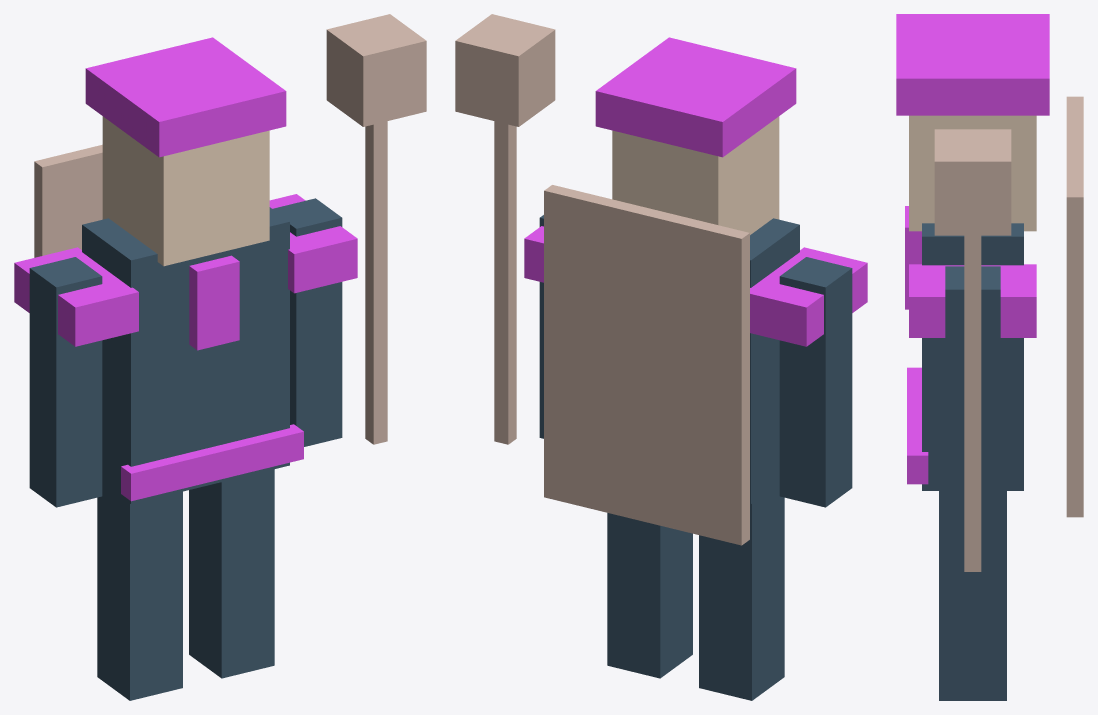
The model's file is 10_thorne_stormhush_cartographer_under_cold.glb.
3 renders of one model, left to right at view 1: azimuth 30°, elevation 25°; view 2: azimuth 150°, elevation 25°; view 3: azimuth 270°, elevation 25°, orthographic. The views are drawn at different scales.
Visible parts, largest first — view 1: Thorne Stormhush, Cartographer under Cold; view 2: Thorne Stormhush, Cartographer under Cold; view 3: Thorne Stormhush, Cartographer under Cold.
Part boxes in pixels (bbox=[...]): Thorne Stormhush, Cartographer under Cold: bbox=[14, 14, 426, 700]; Thorne Stormhush, Cartographer under Cold: bbox=[455, 14, 867, 700]; Thorne Stormhush, Cartographer under Cold: bbox=[896, 14, 1083, 700].
Size of the model in its own units: 1.06 by 1.64 by 0.4511.
